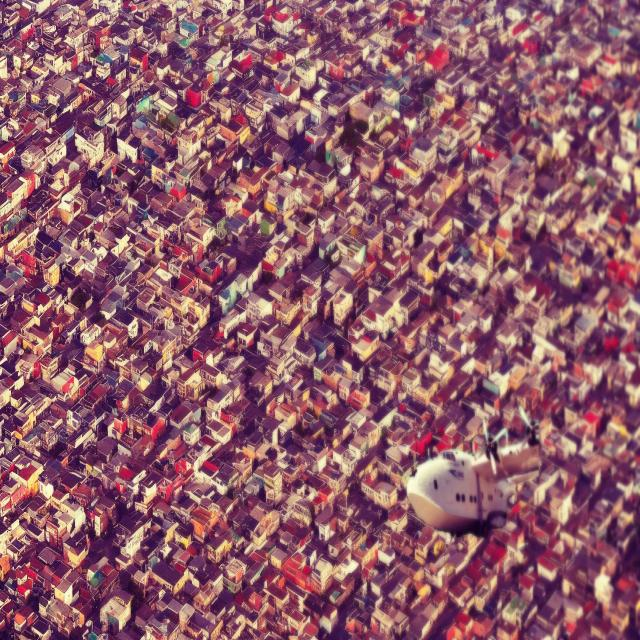airplane: (406, 406, 541, 533)
